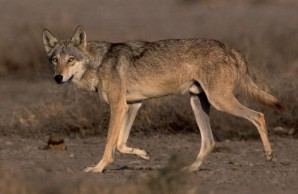dog: (40, 25, 285, 164)
